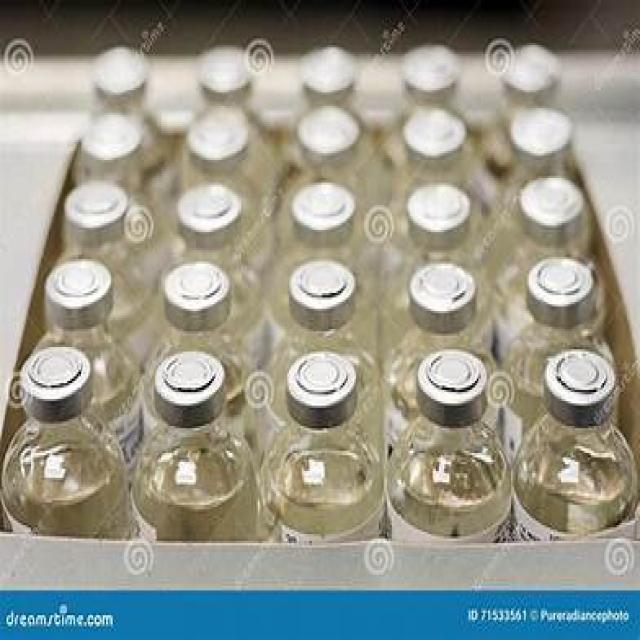vial: (549, 345, 627, 433), (528, 248, 596, 331), (416, 352, 496, 421), (503, 106, 582, 168), (512, 177, 583, 243), (63, 170, 134, 233), (19, 345, 100, 400), (290, 350, 359, 413), (158, 352, 230, 409), (191, 115, 272, 165), (76, 110, 140, 163), (406, 107, 462, 165), (414, 182, 476, 232), (301, 106, 368, 152), (89, 42, 146, 96), (53, 253, 104, 312), (207, 47, 260, 101), (298, 47, 362, 91), (506, 47, 558, 100), (290, 180, 348, 224), (403, 43, 457, 90), (417, 268, 470, 315), (171, 260, 221, 307), (184, 187, 238, 229), (304, 260, 346, 304)
